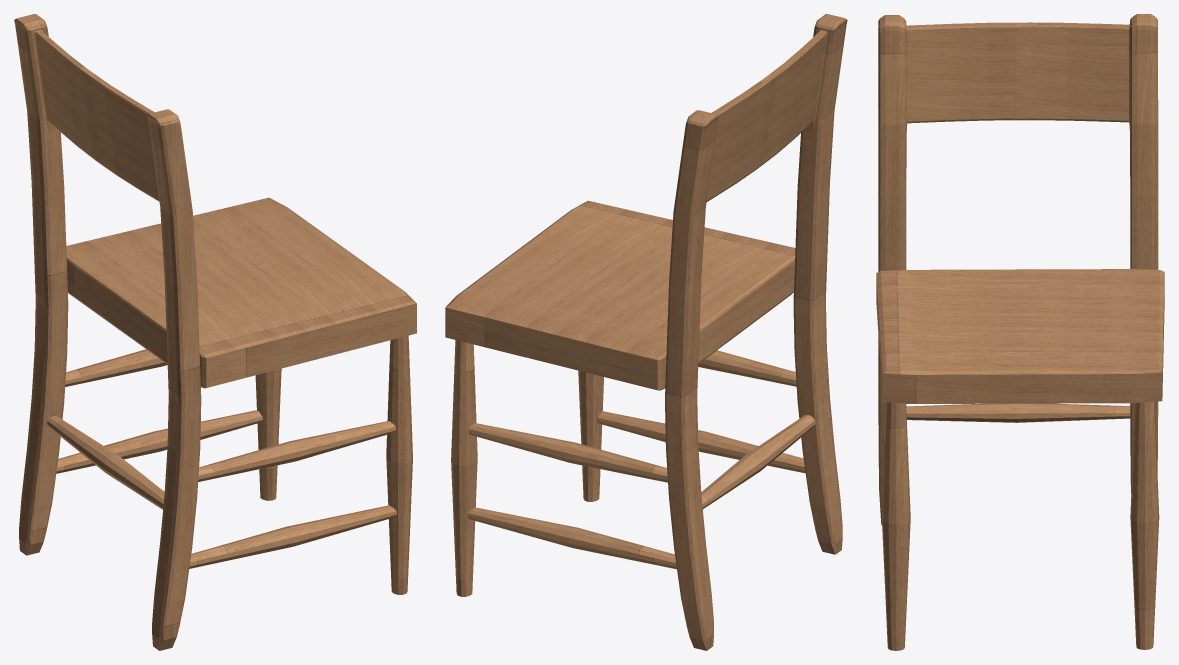
3 renders of one model, left to right at view 1: azimuth 30°, elevation 25°; view 2: azimuth 150°, elevation 25°; view 3: azimuth 270°, elevation 25°, orthographic. The views are drawn at different scales.
Visible parts, largest first — view 1: Cube.000; view 2: Cube.000; view 3: Cube.000.
Boxes of the visible parts, x1,y1,x2,y2 form: Cube.000: (14, 14, 416, 650); Cube.000: (445, 14, 847, 650); Cube.000: (876, 14, 1164, 650).
Bounding box in the file's own units: 5314 × 10303 × 5213.
Materials: 1 (1 with a texture image).
